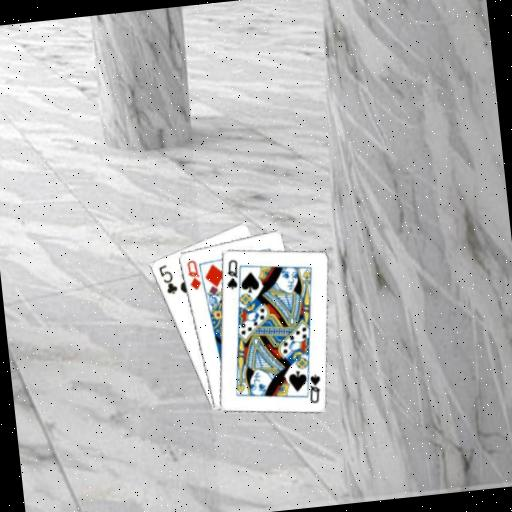5C: (155, 261, 180, 297)
QD: (183, 256, 203, 292)
QS: (221, 256, 241, 292), (304, 370, 324, 405)
